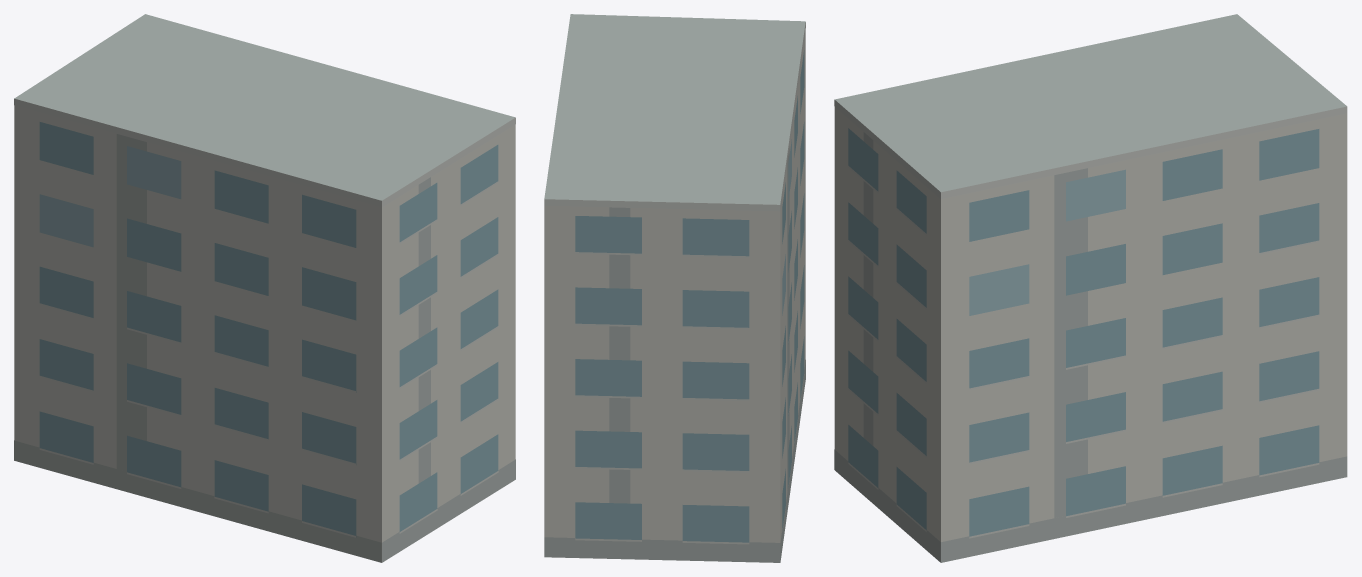
The model's file is survey-upis-32882526.glb.
The picture shows the model from 3 angles, left to right: view 1: azimuth 30°, elevation 25°; view 2: azimuth 150°, elevation 25°; view 3: azimuth 270°, elevation 25°; orthographic projection. The views are drawn at different scales.
Parts seen in each view (by area): view 1: survey-upis-32882526.tmp; view 2: survey-upis-32882526.tmp; view 3: survey-upis-32882526.tmp.
Boxes of the visible parts, box(x1,y1,x2,y2) form: survey-upis-32882526.tmp: box(14, 14, 515, 562); survey-upis-32882526.tmp: box(544, 14, 805, 562); survey-upis-32882526.tmp: box(834, 14, 1347, 562).
Size of the model in its own units: 13.52 by 13.1 by 16.44.
